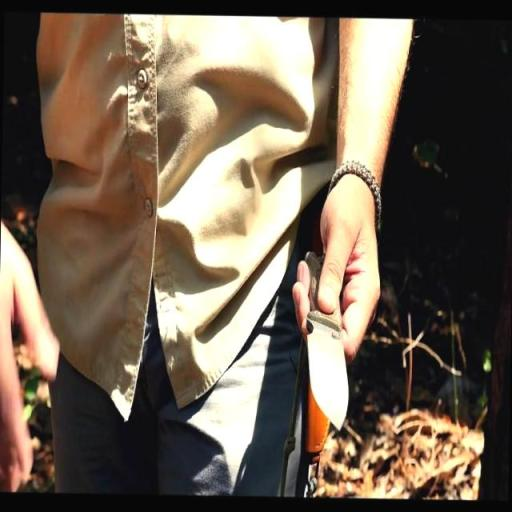knife: (302, 252, 351, 430)
